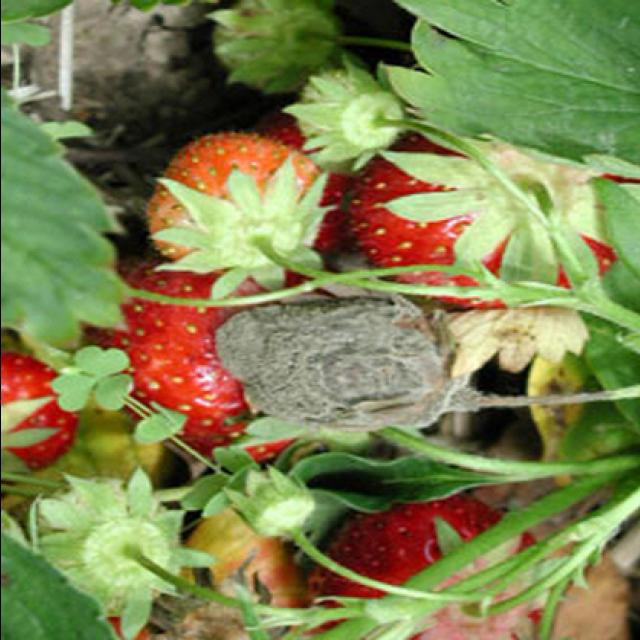Gray Mold: (212, 290, 479, 434)
